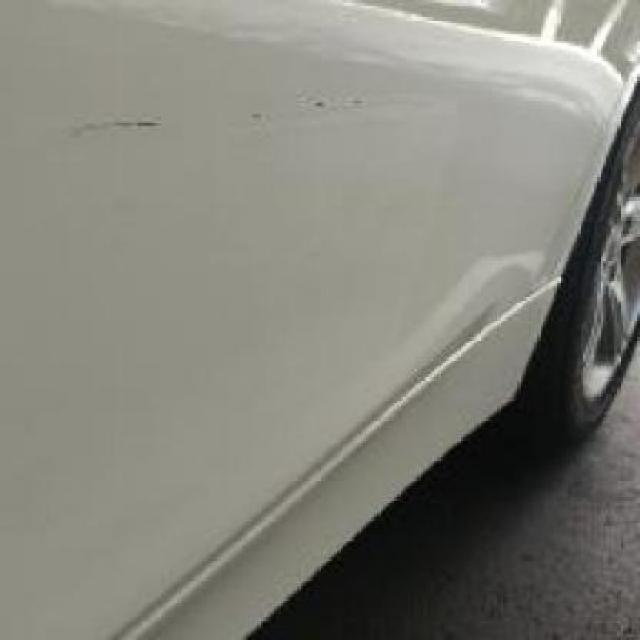dent-or-scratch: (44, 96, 174, 152), (236, 94, 390, 130)
